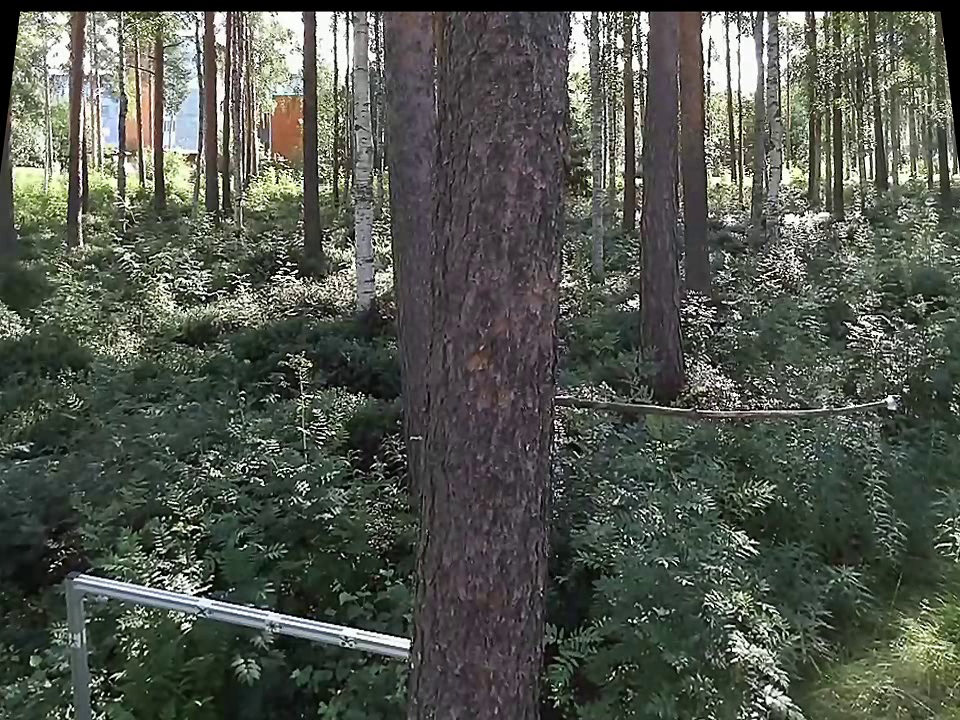aluminum_frame: (67, 565, 410, 665), (59, 571, 99, 717)
branch: (558, 384, 880, 429)
